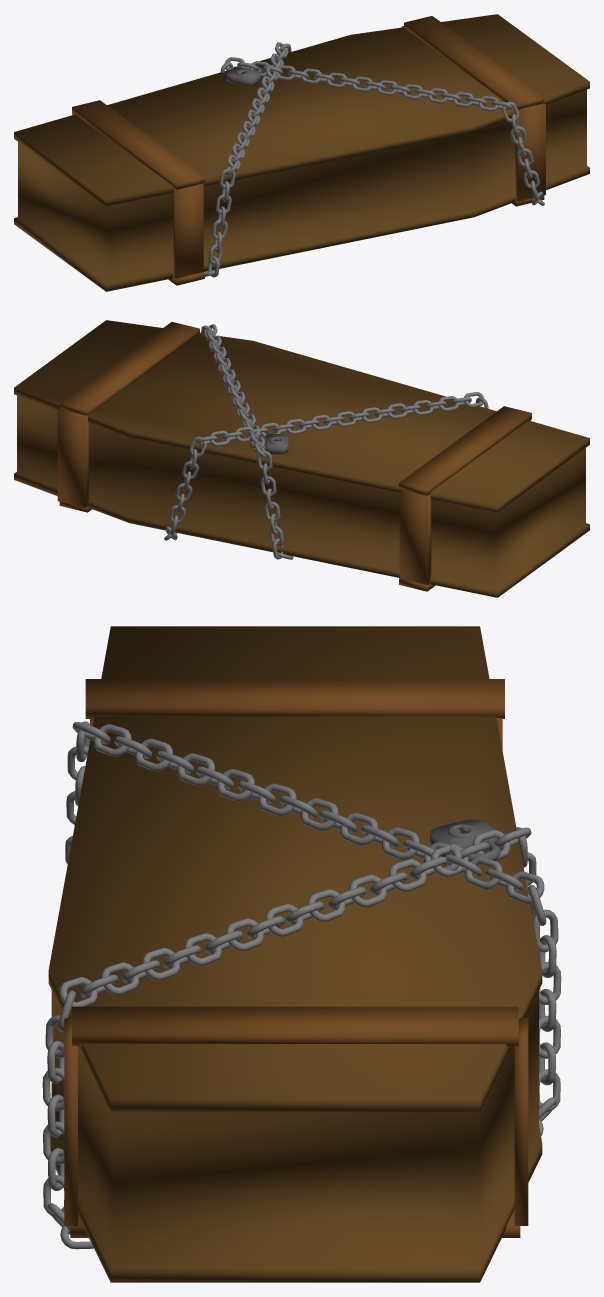
The model's file is Chained Old Fashioned Coffin.glb.
The picture shows the model from 3 angles, top to bottom: view 1: azimuth 30°, elevation 25°; view 2: azimuth 150°, elevation 25°; view 3: azimuth 270°, elevation 25°; orthographic projection. The views are drawn at different scales.
Parts seen in each view (by area): view 1: Chained Old Fashion Coffin; view 2: Chained Old Fashion Coffin; view 3: Chained Old Fashion Coffin.
Part boxes in pixels (x1,y1,x2,y2): Chained Old Fashion Coffin: (14,14,589,291); Chained Old Fashion Coffin: (14,320,589,597); Chained Old Fashion Coffin: (42,626,561,1282).
Bounding box in the file's own units: 2.68 × 0.6035 × 1.24.
